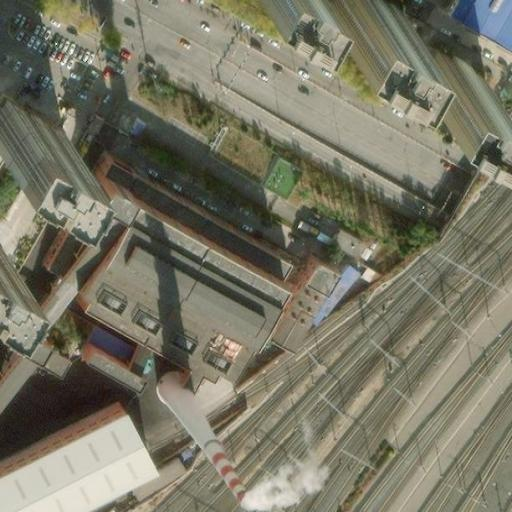building: (67, 212, 267, 369), (83, 163, 270, 280), (93, 148, 279, 264), (0, 402, 138, 512), (259, 247, 333, 344), (412, 48, 480, 110), (323, 0, 399, 50), (305, 259, 350, 321), (80, 309, 134, 359), (72, 338, 134, 381), (116, 451, 174, 492), (8, 328, 63, 370), (118, 330, 150, 368)
